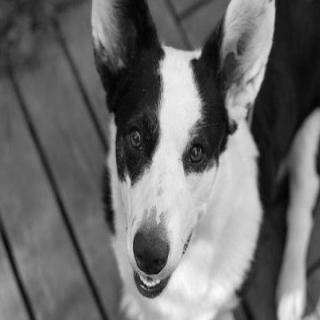dog: (81, 0, 286, 307)
nose: (127, 229, 173, 277)
